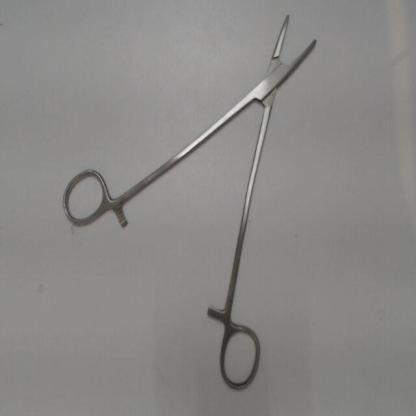8 Mayo Needle Holder: (55, 1, 332, 398)
